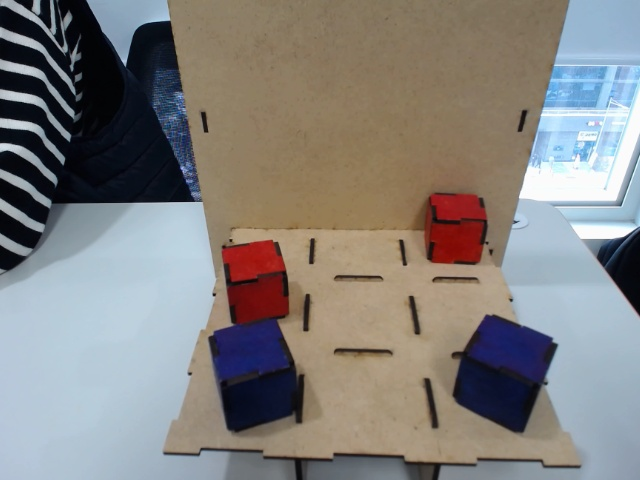blue: (452, 315, 558, 435), (209, 319, 296, 432)
red: (220, 239, 291, 325), (424, 192, 489, 266)
